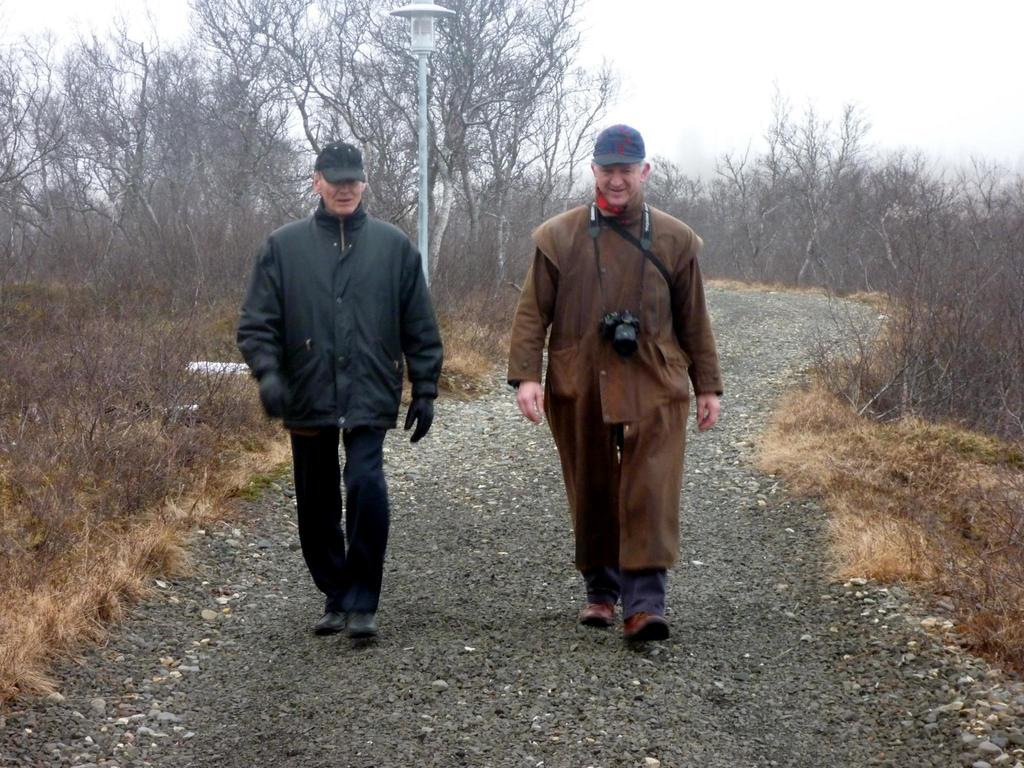Footwear: (624, 614, 676, 647), (346, 602, 380, 644), (310, 602, 349, 636), (580, 601, 623, 625)
